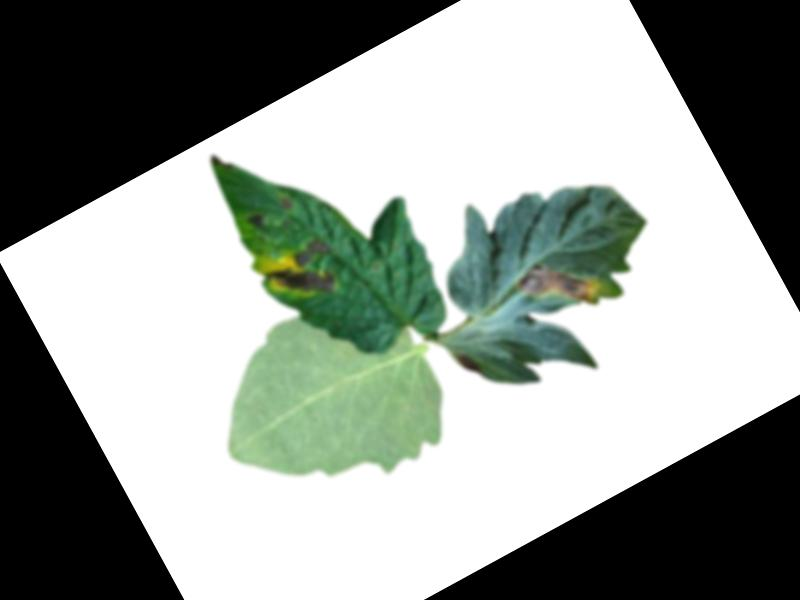Early_blight: (511, 241, 606, 333), (260, 233, 350, 319), (206, 148, 234, 178), (241, 209, 268, 236), (278, 197, 296, 214)
